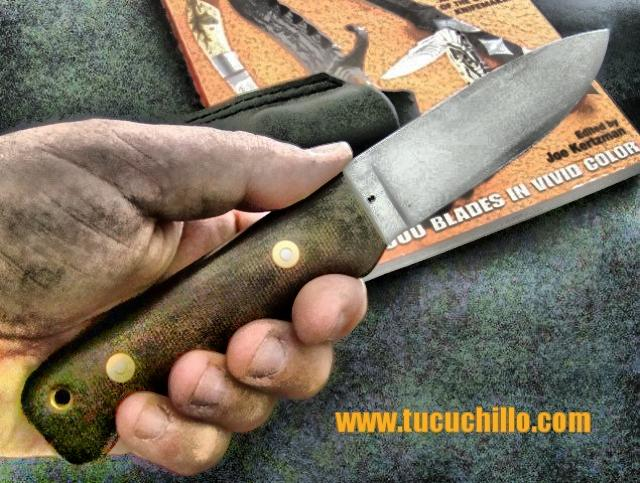knife: (15, 23, 615, 468)
